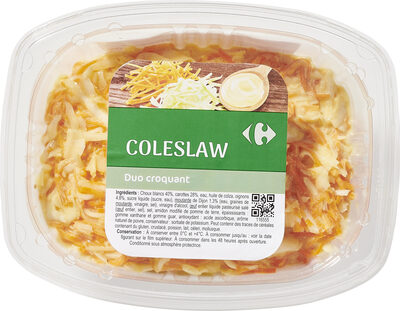Coleslaw Chou blanc et carottes: (20, 16, 380, 295)
